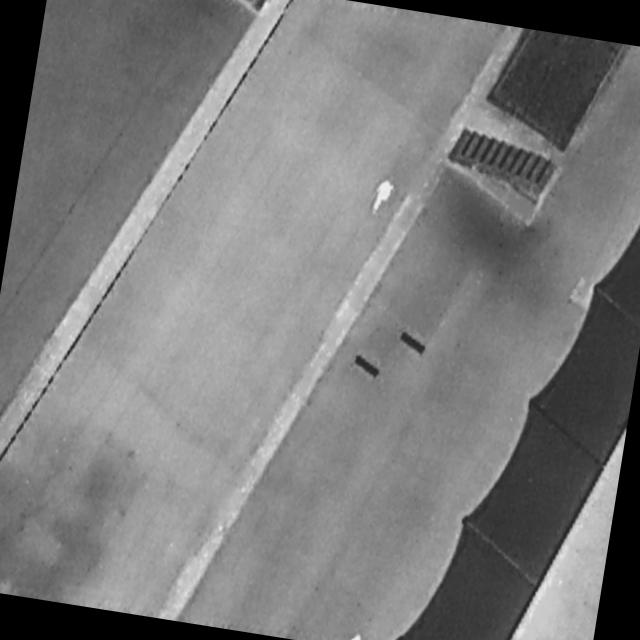person: (366, 171, 400, 222), (347, 629, 367, 640)
